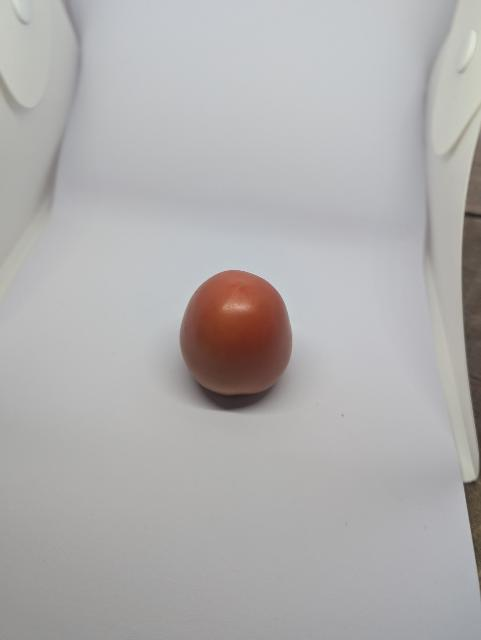red: (165, 254, 318, 418)
